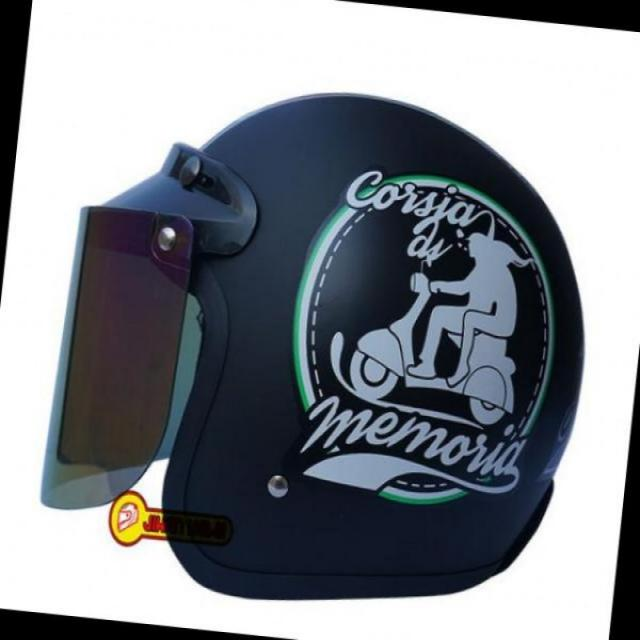Helmet: (66, 79, 575, 587)
